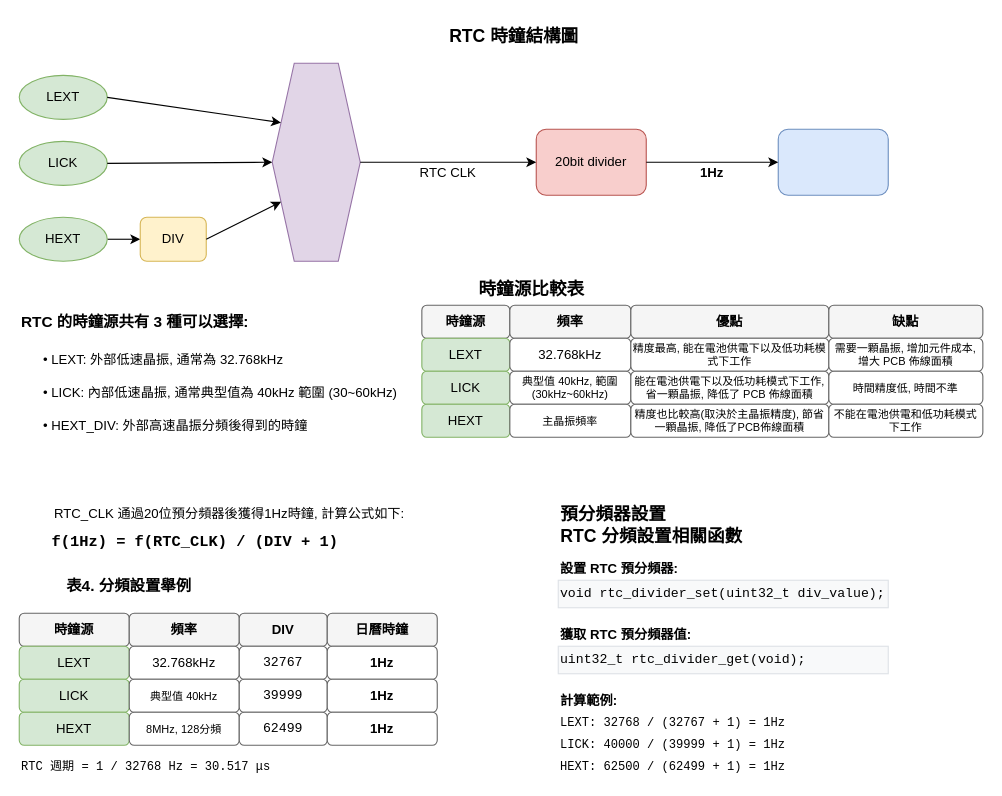
This 1002x796 diagram has some shape labels left out. Each missing label, with the centre of its shape:
"32bit counter" belongs at point 832,161.
"RTCSEL" belongs at point 315,161.
